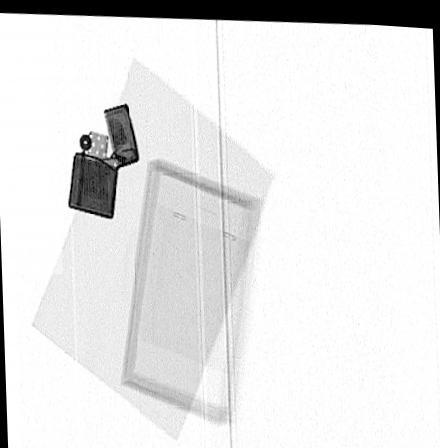Lighter: (67, 99, 139, 217)
